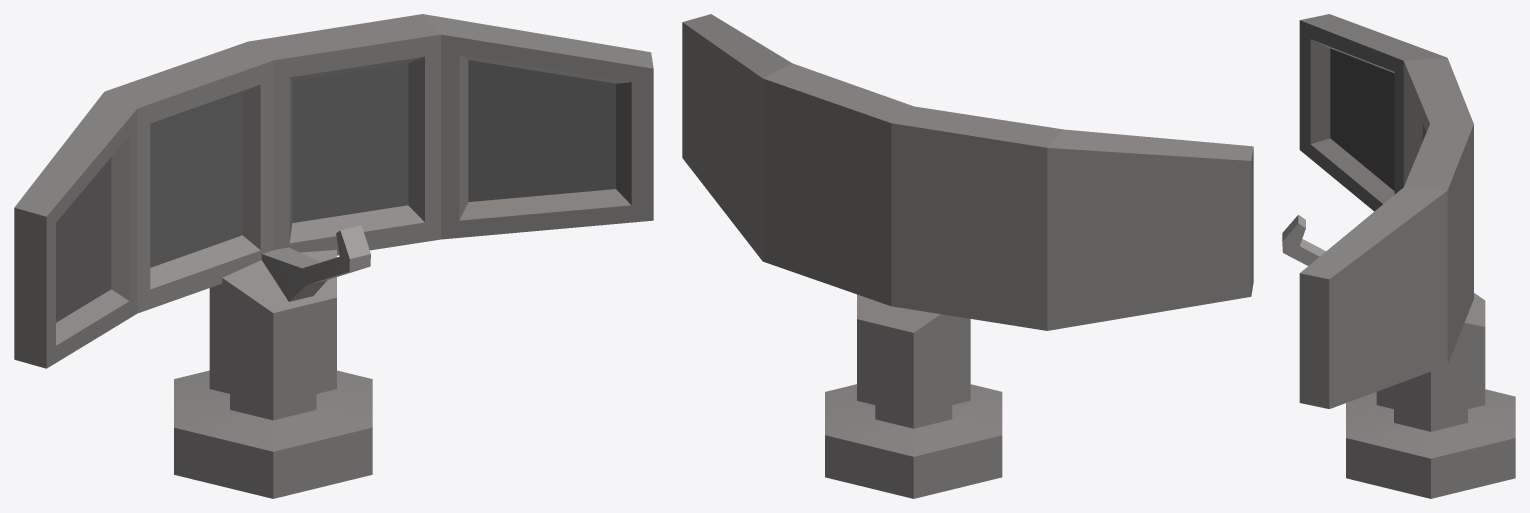
The model's file is SM_Bld_RadioTower_Top_01.obj.
The picture shows the model from 3 angles, left to right: view 1: azimuth 30°, elevation 25°; view 2: azimuth 150°, elevation 25°; view 3: azimuth 270°, elevation 25°; orthographic projection. The views are drawn at different scales.
Visible parts, largest first — view 1: SM_Bld_RadioTower_Top_01_0; view 2: SM_Bld_RadioTower_Top_01_0; view 3: SM_Bld_RadioTower_Top_01_0.
Boxes of the visible parts, <box> form: SM_Bld_RadioTower_Top_01_0: <box>14,14,653,498</box>; SM_Bld_RadioTower_Top_01_0: <box>682,14,1253,498</box>; SM_Bld_RadioTower_Top_01_0: <box>1282,14,1515,498</box>.
Size of the model in its own units: 2.39 by 1.4 by 0.8873.
1 material, 1 textured.
